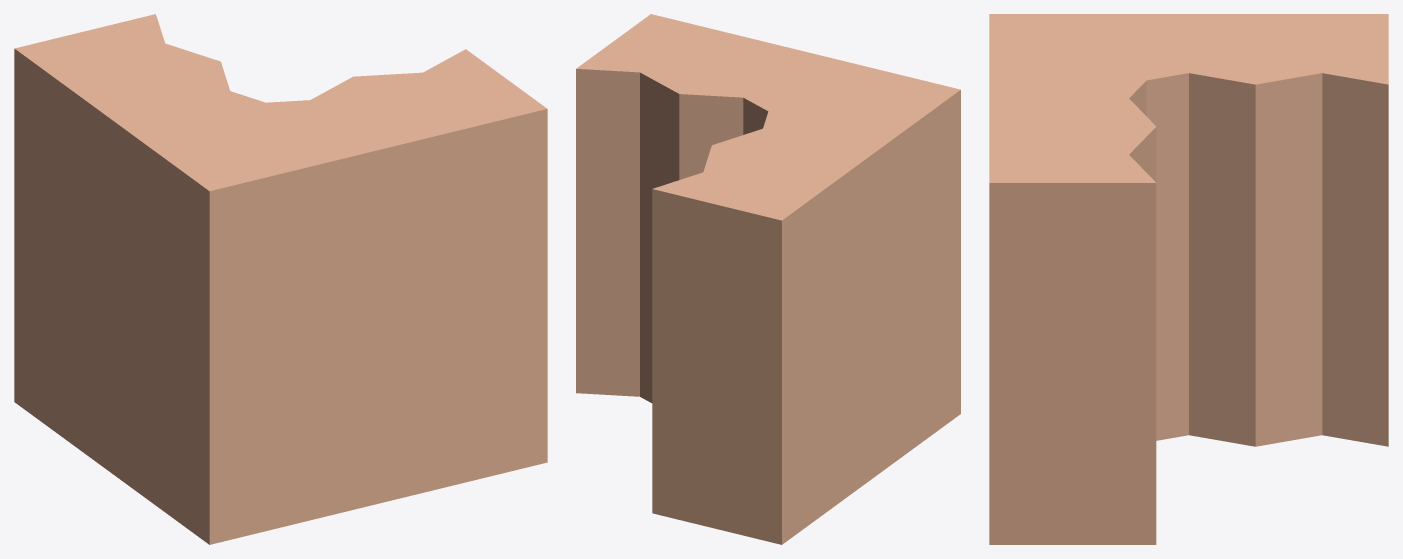
File: cliff_cornerInnerLarge_rock.glb
The picture shows the model from 3 angles, left to right: view 1: azimuth 30°, elevation 25°; view 2: azimuth 150°, elevation 25°; view 3: azimuth 270°, elevation 25°; orthographic projection. The views are drawn at different scales.
Visible parts, largest first — view 1: cliff_cornerInnerLarge_rock; view 2: cliff_cornerInnerLarge_rock; view 3: cliff_cornerInnerLarge_rock.
Part boxes in pixels (x1=…): cliff_cornerInnerLarge_rock: x1=14, y1=14, x2=547, y2=544; cliff_cornerInnerLarge_rock: x1=576, y1=14, x2=960, y2=544; cliff_cornerInnerLarge_rock: x1=989, y1=14, x2=1388, y2=544.
Size of the model in its own units: 1 by 1 by 1.
